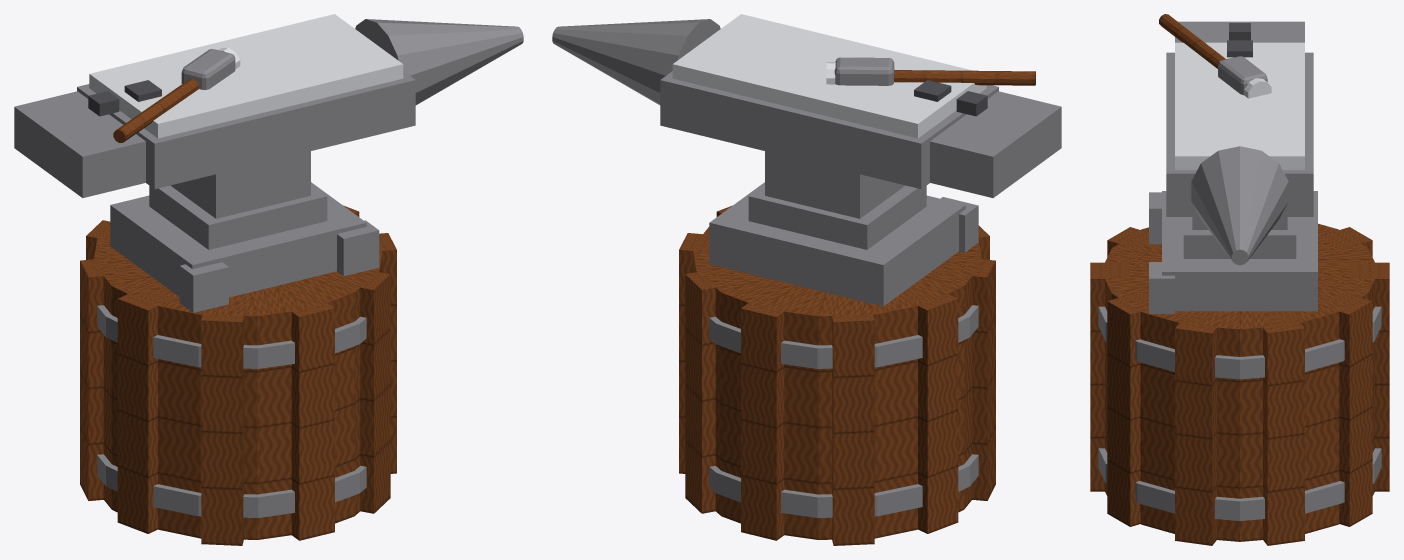
File: great-anvil-on-an-oak-stump-0-98-m.glb
The picture shows the model from 3 angles, left to right: view 1: azimuth 30°, elevation 25°; view 2: azimuth 150°, elevation 25°; view 3: azimuth 270°, elevation 25°; orthographic projection. The views are drawn at different scales.
Visible parts, largest first — view 1: blacksmith-forge-and-armoury-great-anvil-on-stump; view 2: blacksmith-forge-and-armoury-great-anvil-on-stump; view 3: blacksmith-forge-and-armoury-great-anvil-on-stump.
Boxes of the visible parts, box(x1,y1,x2,y2) form: blacksmith-forge-and-armoury-great-anvil-on-stump: box(14, 14, 523, 545); blacksmith-forge-and-armoury-great-anvil-on-stump: box(552, 14, 1061, 545); blacksmith-forge-and-armoury-great-anvil-on-stump: box(1090, 14, 1389, 545).
Bounding box in the file's own units: 1.19 × 1.02 × 0.69.
Materials: 4 (1 with a texture image).
